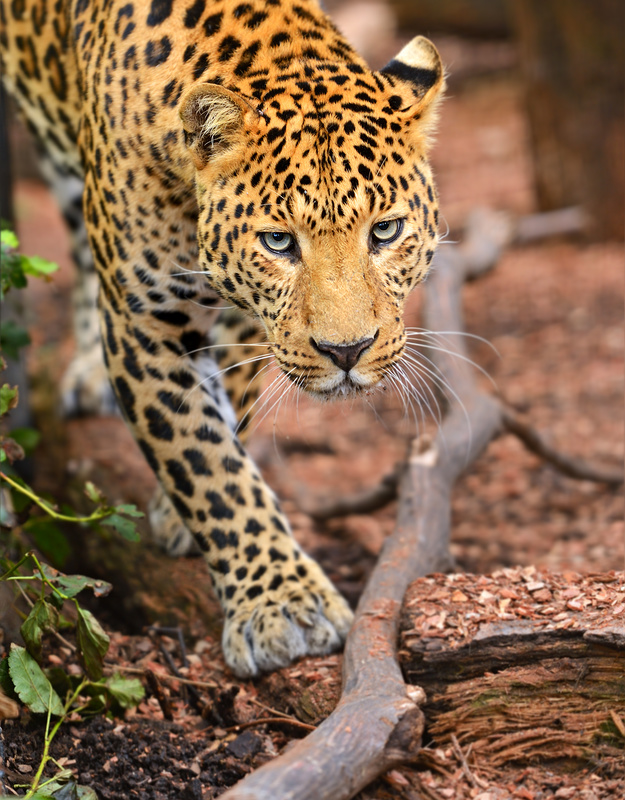amur_leopard: (7, 7, 455, 684)
